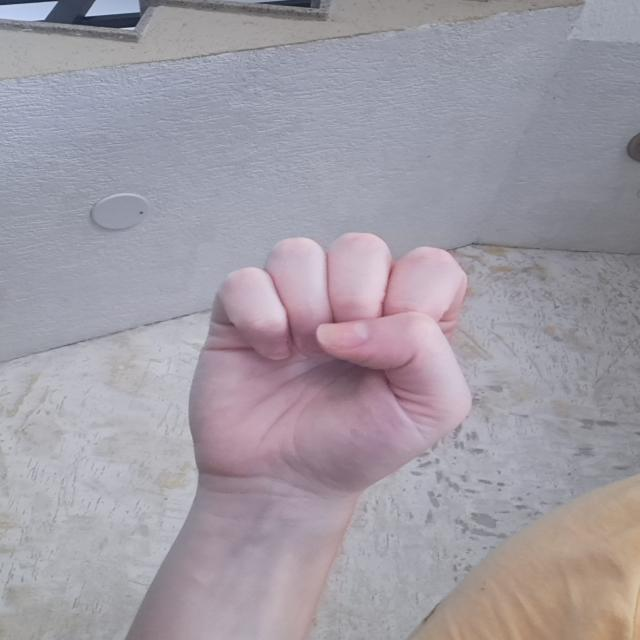S: (175, 225, 481, 502)
